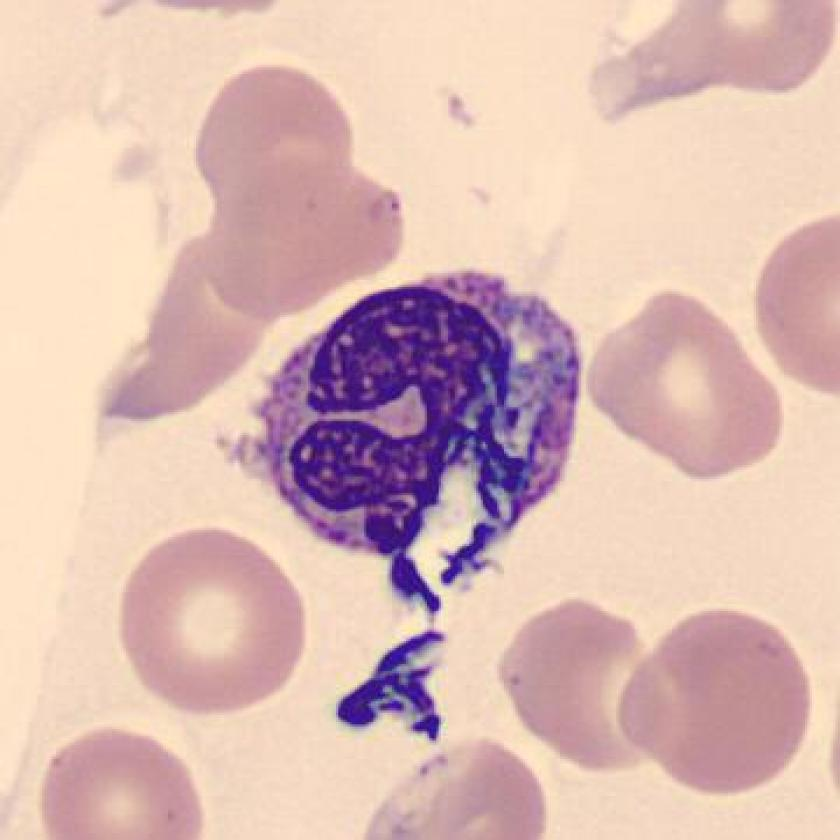monocyte: (220, 242, 603, 621)
